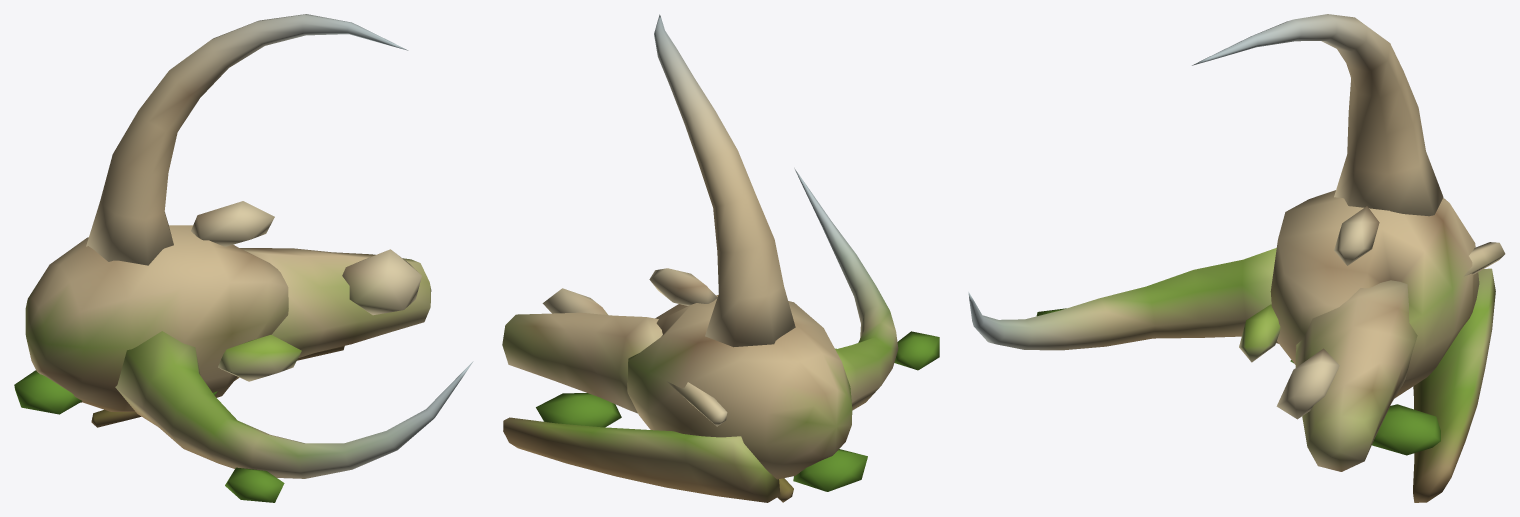
Rendered from giant_skull_lod1.glb.
3 views of the same model, side by side, from view 1: azimuth 30°, elevation 25°; view 2: azimuth 150°, elevation 25°; view 3: azimuth 270°, elevation 25° (orthographic). The views are drawn at different scales.
Visible parts, largest first — view 1: giant_skull_lod1; view 2: giant_skull_lod1; view 3: giant_skull_lod1.
Boxes of the visible parts, x1=… form: giant_skull_lod1: x1=14, y1=14, x2=473, y2=502; giant_skull_lod1: x1=502, y1=14, x2=939, y2=502; giant_skull_lod1: x1=968, y1=14, x2=1505, y2=502.
Size of the model in its own units: 10.58 by 10.49 by 11.63.
